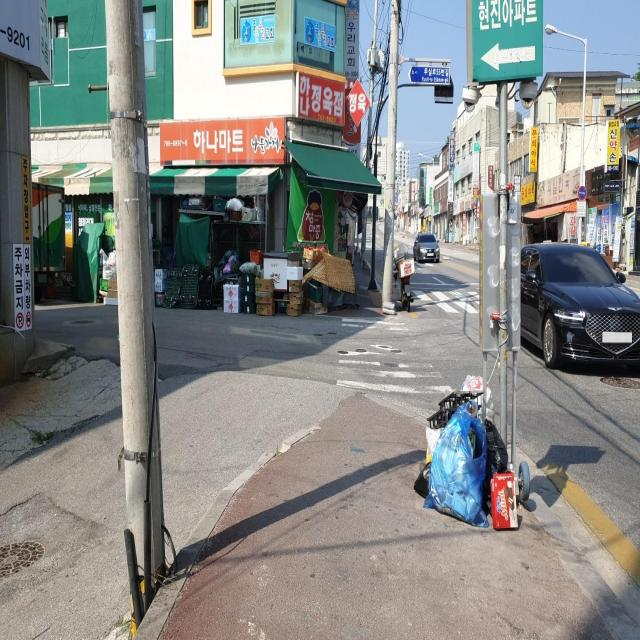횡단보도: (336, 318, 456, 396), (411, 280, 482, 316)
